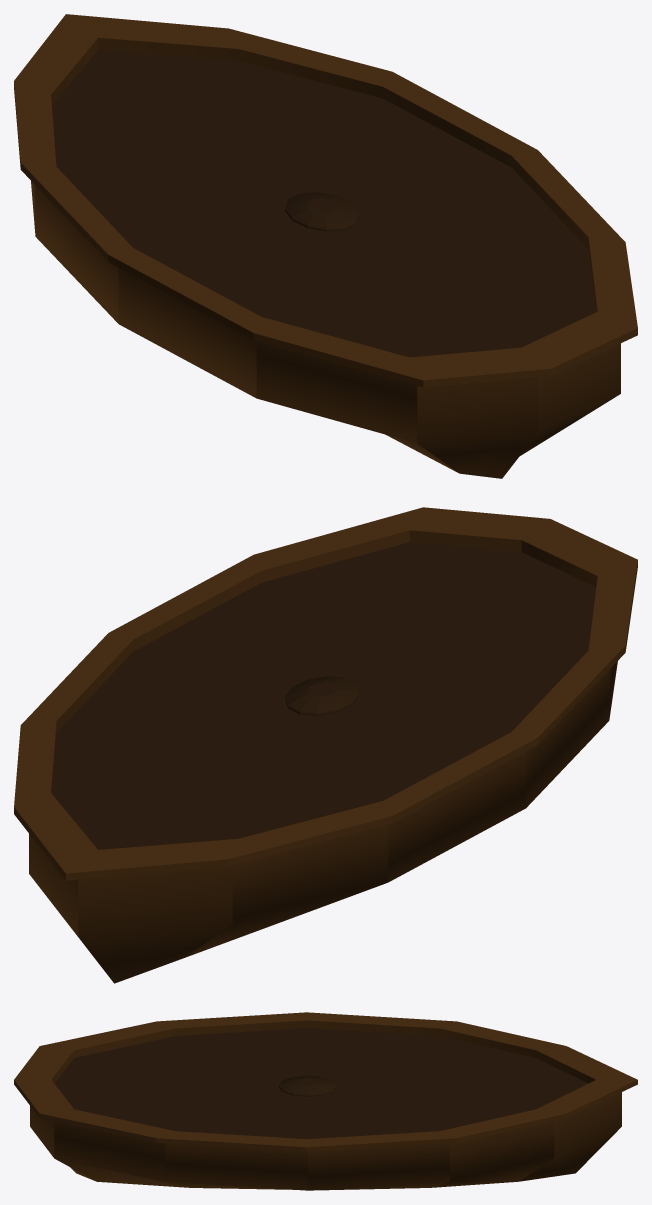
Rendered from boatricehull.fbx.
3 renders of one model, top to bottom at view 1: azimuth 30°, elevation 25°; view 2: azimuth 150°, elevation 25°; view 3: azimuth 270°, elevation 25°, orthographic. The views are drawn at different scales.
Parts seen in each view (by area): view 1: RiceHull; view 2: RiceHull; view 3: RiceHull.
Boxes of the visible parts, x1=… form: RiceHull: x1=14, y1=14, x2=637, y2=478; RiceHull: x1=14, y1=507, x2=637, y2=983; RiceHull: x1=14, y1=1012, x2=637, y2=1190.
Size of the model in its own units: 2.56 by 0.8273 by 5.
